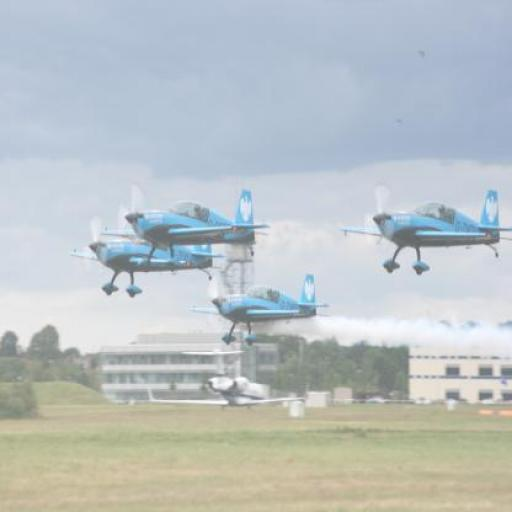aircraft: (335, 189, 511, 275), (121, 187, 273, 273), (188, 273, 330, 345), (71, 237, 215, 298)
